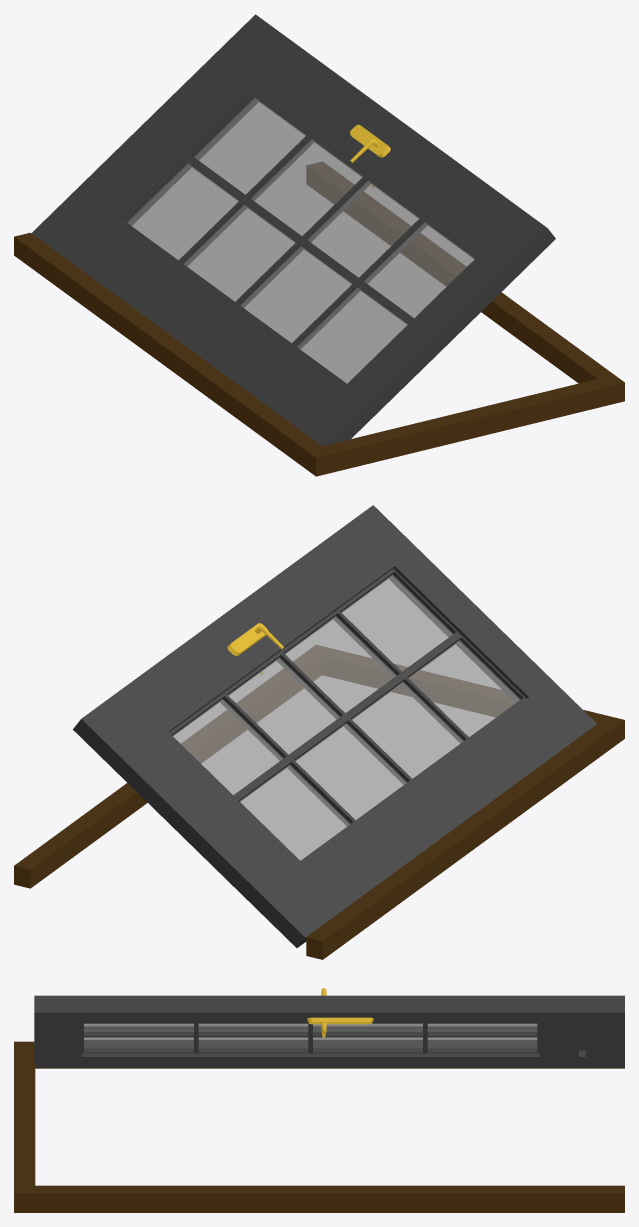
File: EnkeleDeurOpen.dae
3 renders of one model, top to bottom at view 1: azimuth 30°, elevation 25°; view 2: azimuth 150°, elevation 25°; view 3: azimuth 270°, elevation 25°, orthographic.
Parts seen in each view (by area): view 1: door, glass, ram, lock; view 2: door, glass, ram, lock; view 3: door, ram, glass, lock.
Boxes of the visible parts, <box> form: door: <box>31,14,555,445</box>; glass: <box>127,98,474,383</box>; ram: <box>14,161,624,476</box>; lock: <box>350,124,390,187</box>; door: <box>73,505,596,947</box>; glass: <box>172,574,520,860</box>; ram: <box>14,645,624,959</box>; lock: <box>227,623,283,674</box>; door: <box>34,995,624,1067</box>; ram: <box>14,1041,624,1212</box>; glass: <box>84,1023,537,1048</box>; lock: <box>307,988,373,1037</box>.
Bounding box in the file's own units: 122 × 68.55 × 206.
